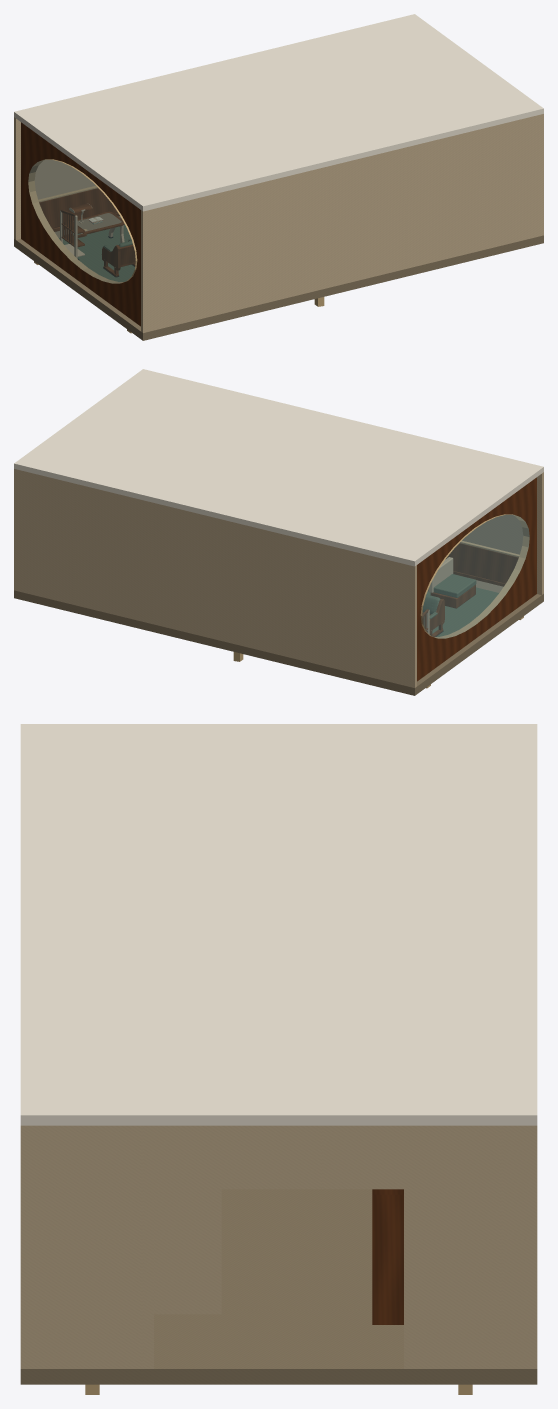
The model's file is NG440_AtriumInterior_r002.glb.
3 views of the same model, one above another, from view 1: azimuth 30°, elevation 25°; view 2: azimuth 150°, elevation 25°; view 3: azimuth 270°, elevation 25° (orthographic). The views are drawn at different scales.
Parts seen in each view (by area): view 1: NG440_RuntimeBatch_001, NG440_OvalAtriumGlass, NG440_RuntimeBatch_002, NG440_RoomFloor, NGA_440_OutlookFloorInlay, NGA_440_South_LowPanel, NG440_RuntimeBatch_004, NG440_RuntimeBatch_017, NG440_RuntimeBatch_038, NG440_RuntimeBatch_018, NG440_LibraryStudyEdge__SINGLE_inset_stone_writing_surface; view 2: NG440_RuntimeBatch_001, NG440_OvalAtriumGlass, NG440_RuntimeBatch_002, NG440_RoomFloor, NGA_440_North_LowPanel, NG440_RuntimeBatch_004, NGA_440_OutlookFloorInlay, NGA_440_ViewSeat_Cushion, NGA_440_ViewSeat_Base; view 3: NG440_RuntimeBatch_001, NG440_RoomFloor, NG440_RuntimeBatch_002.
Boxes of the visible parts, bbox=[...] form: NG440_RuntimeBatch_001: bbox=[14, 14, 543, 332]; NG440_OvalAtriumGlass: bbox=[28, 160, 135, 283]; NG440_RuntimeBatch_002: bbox=[21, 122, 140, 326]; NG440_RoomFloor: bbox=[14, 216, 543, 340]; NGA_440_OutlookFloorInlay: bbox=[59, 225, 134, 281]; NGA_440_South_LowPanel: bbox=[39, 188, 117, 228]; NG440_RuntimeBatch_004: bbox=[28, 159, 324, 333]; NG440_RuntimeBatch_017: bbox=[60, 209, 124, 246]; NG440_RuntimeBatch_038: bbox=[102, 241, 135, 276]; NG440_RuntimeBatch_018: bbox=[60, 211, 124, 258]; NG440_LibraryStudyEdge__SINGLE_inset_stone_writing_surface: bbox=[77, 213, 121, 231]; NG440_RuntimeBatch_001: bbox=[14, 369, 543, 687]; NG440_OvalAtriumGlass: bbox=[422, 515, 529, 638]; NG440_RuntimeBatch_002: bbox=[417, 477, 536, 681]; NG440_RoomFloor: bbox=[14, 580, 543, 695]; NGA_440_North_LowPanel: bbox=[446, 543, 518, 583]; NG440_RuntimeBatch_004: bbox=[233, 514, 529, 688]; NGA_440_OutlookFloorInlay: bbox=[426, 587, 498, 636]; NGA_440_ViewSeat_Cushion: bbox=[433, 574, 476, 597]; NGA_440_ViewSeat_Base: bbox=[430, 585, 475, 608]; NG440_RuntimeBatch_001: bbox=[20, 724, 537, 1368]; NG440_RoomFloor: bbox=[20, 1189, 537, 1384]; NG440_RuntimeBatch_002: bbox=[372, 1189, 403, 1324].
Size of the model in its own units: 12.9 by 4.91 by 7.2.
36 materials, 20 textured.
